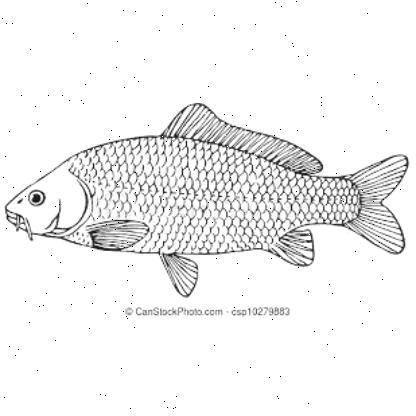ikan-mas: (6, 113, 396, 280)
